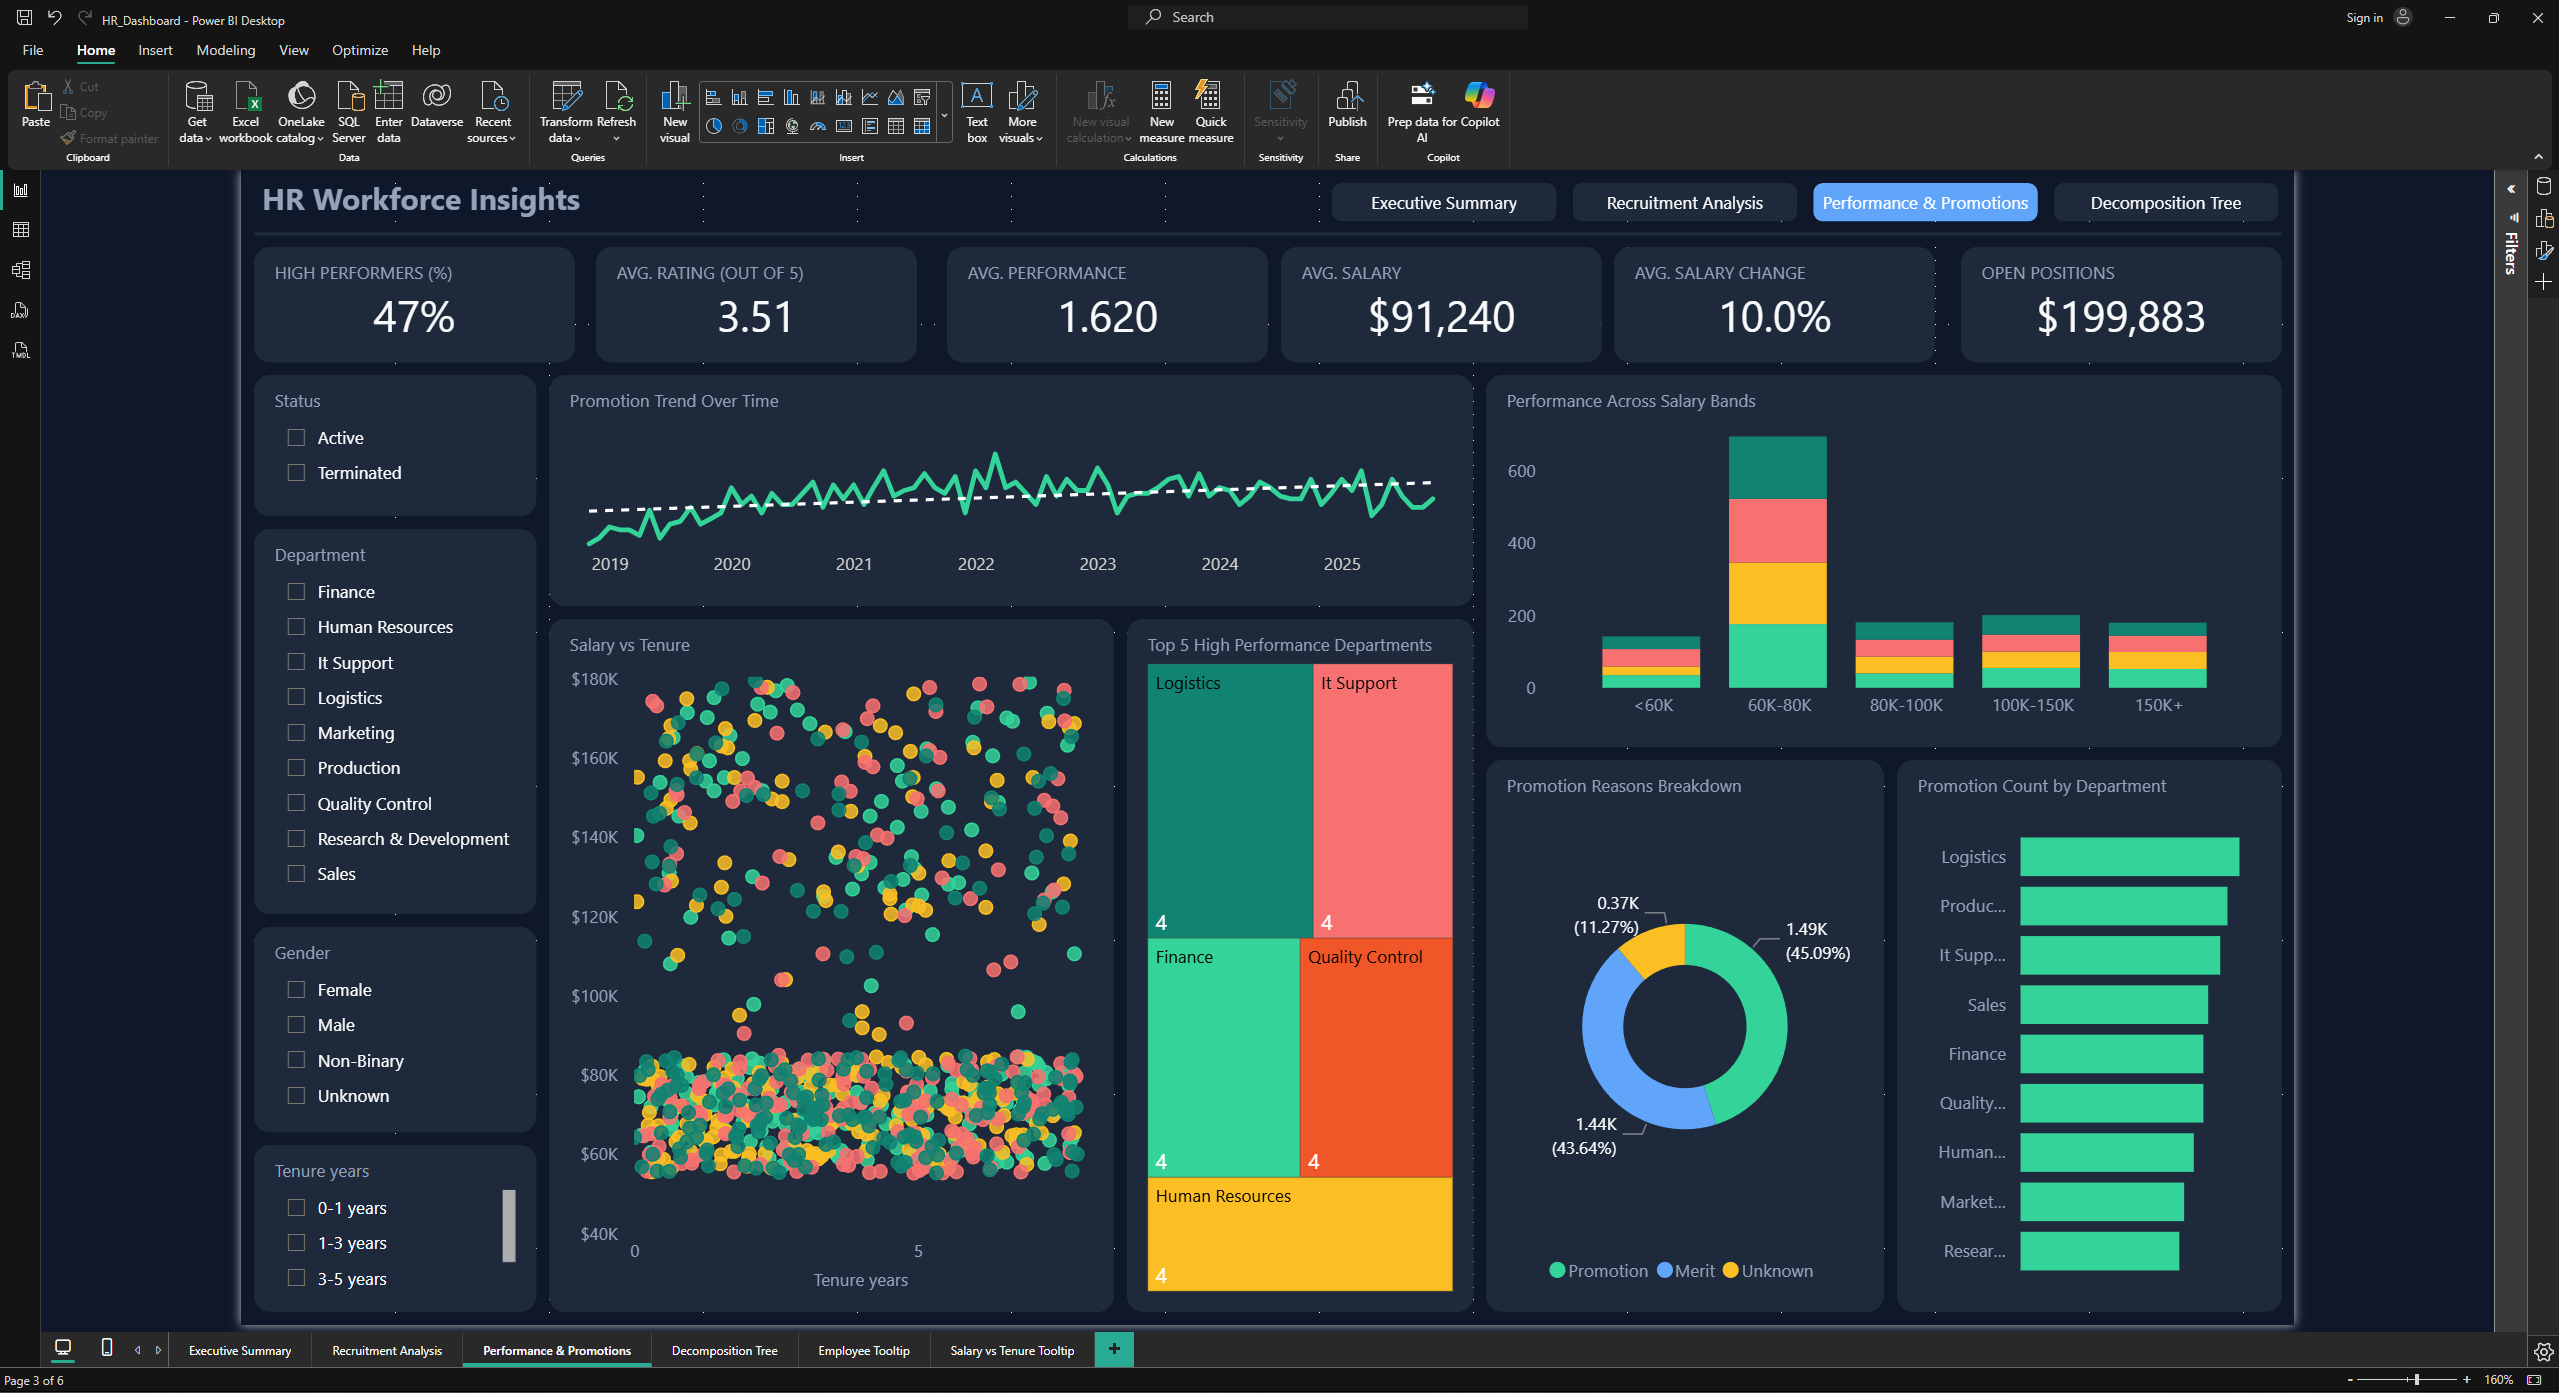

This screenshot's page, from the dashboard's own definition file:
{"tool":"powerbi","page":{"name":"Performance & Promotions","canvas":[1280,720],"ordinal":2},"visuals":[{"type":"textbox","box":[8,0,224,40],"z":0},{"type":"shape","box":[8,32,1264,16],"z":1000},{"type":"card","title":"HIGH PERFORMERS (%)","fields":{"Values":["Compensation_History_cleaned.High Performers %"]},"box":[8,48,200,72],"z":2000},{"type":"card","title":"AVG. SALARY","fields":{"Values":["Compensation_History_cleaned.Average Salary"]},"box":[648,48,200,72],"z":3000},{"type":"card","title":"AVG. RATING (OUT OF 5)","fields":{"Values":["Compensation_History_cleaned.Average Performance"]},"box":[221.3,48,200,72],"z":4000},{"type":"card","title":"AVG. PERFORMANCE","fields":{"Values":["Compensation_History_cleaned.Promotion Rate"]},"box":[440,48,200,72],"z":5000},{"type":"card","title":"HIGHEST SALARY","fields":{"Values":["Compensation_History_cleaned.Biggest Salary"]},"box":[1072,48,200,72],"z":6000},{"type":"card","title":"AVG. SALARY CHANGE","fields":{"Values":["Compensation_History_cleaned.Avg Salary Change %"]},"box":[856,48,200,72],"z":7000},{"type":"slicer","title":"Department","fields":{"Values":["Employee_Master_cleaned.department"]},"box":[8,224,176,240],"z":8000},{"type":"slicer","title":"Gender","fields":{"Values":["Employee_Master_cleaned.gender"]},"box":[8,472,176,128],"z":9000},{"type":"slicer","title":"Status","fields":{"Values":["Employee_Master_cleaned.status"]},"box":[8,128,176,88],"z":10000},{"type":"lineChart","title":"Promotion Trend Over Time","fields":{"Y":["CountNonNull(Compensation_History_cleaned.changeid)"],"Series":["Compensation_History_cleaned.reason"],"Category":["Compensation_History_cleaned.changedate.Variation.Date Hierarchy.Year","Compensation_History_cleaned.changedate.Variation.Date Hierarchy.Month"]},"box":[192,128,576,144],"z":11000},{"type":"columnChart","title":"Performance Across Salary Bands","fields":{"Y":["CountNonNull(Compensation_History_cleaned.employeeid)"],"Series":["Employee_Master_cleaned.performancerating"],"Category":["SalaryBandSortTable.salary_band"]},"box":[776,128,496,232],"z":12000},{"type":"treemap","title":"Top 5 High Performance Departments","fields":{"Group":["Employee_Master_cleaned.department"],"Values":["CountNonNull(Compensation_History_cleaned.employeeid)"],"Details":["Employee_Master_cleaned.performancerating"]},"box":[552,280,216,432],"z":13000},{"type":"scatterChart","title":"Salary vs Tenure","fields":{"X":["Employee_Master_cleaned.tenure_years"],"Series":["Employee_Master_cleaned.performancerating"],"Y":["Employee_Master_cleaned.salary"]},"box":[192,280,352,432],"z":14000},{"type":"donutChart","title":"Promotion Reasons Breakdown","fields":{"Y":["CountNonNull(Compensation_History_cleaned.changeid)"],"Category":["Compensation_History_cleaned.reason"]},"box":[776,368,248,344],"z":15000},{"type":"barChart","title":"Promotion Count by Department","fields":{"Category":["Employee_Master_cleaned.department"],"Y":["CountNonNull(Compensation_History_cleaned.changeid)"],"Series":["Compensation_History_cleaned.reason"]},"box":[1032,368,240,344],"z":16000},{"type":"slicer","title":"Tenure years","fields":{"Values":["Employee_Master_cleaned.tenure_band"]},"box":[8,608,176,104],"z":17000},{"type":"pageNavigator","box":[680,8,592,24],"z":18000}]}

Visuals, with their boxes on the page's 1280x720 design canvas (x1, y1, x2, y2). These are canvas units, not pixel positions in the 2559x1393 screenshot, which may show the page scaled, cropped or inside an application window:
textbox: [8, 0, 232, 40]
shape: [8, 32, 1272, 48]
"HIGH PERFORMERS (%)" card: [8, 48, 208, 120]
"AVG. SALARY" card: [648, 48, 848, 120]
"AVG. RATING (OUT OF 5)" card: [221, 48, 421, 120]
"AVG. PERFORMANCE" card: [440, 48, 640, 120]
"HIGHEST SALARY" card: [1072, 48, 1272, 120]
"AVG. SALARY CHANGE" card: [856, 48, 1056, 120]
"Department" slicer: [8, 224, 184, 464]
"Gender" slicer: [8, 472, 184, 600]
"Status" slicer: [8, 128, 184, 216]
"Promotion Trend Over Time" lineChart: [192, 128, 768, 272]
"Performance Across Salary Bands" columnChart: [776, 128, 1272, 360]
"Top 5 High Performance Departments" treemap: [552, 280, 768, 712]
"Salary vs Tenure" scatterChart: [192, 280, 544, 712]
"Promotion Reasons Breakdown" donutChart: [776, 368, 1024, 712]
"Promotion Count by Department" barChart: [1032, 368, 1272, 712]
"Tenure years" slicer: [8, 608, 184, 712]
pageNavigator: [680, 8, 1272, 32]
